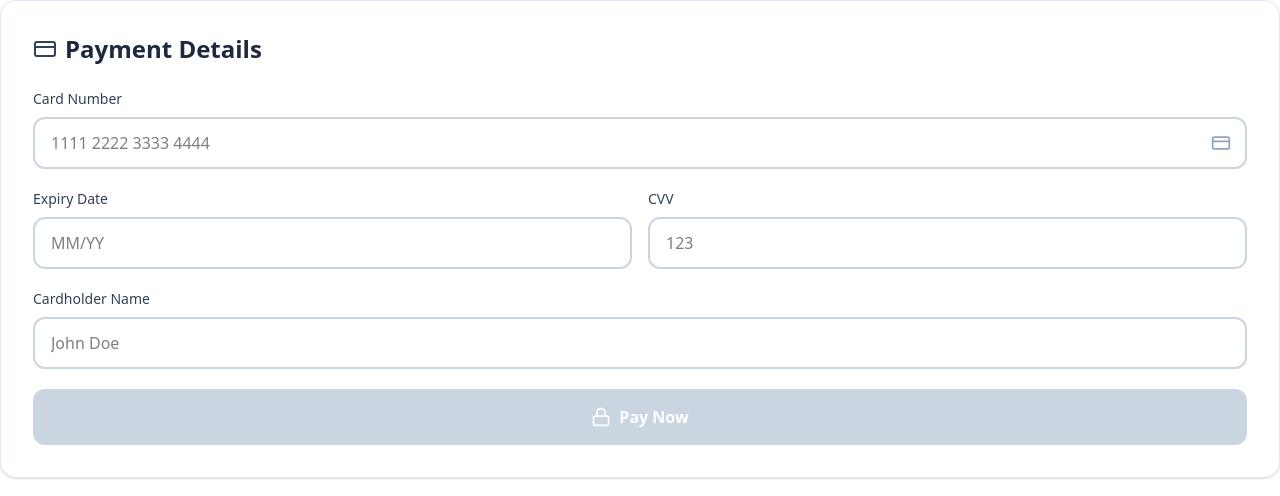
Test: PaymentForm › updates expiry input correctly
This screenshot has width=1280, height=496.
Type "1225" into the field with placeholder "MM/YY". click: (332, 243)
box: [33,217,632,269]
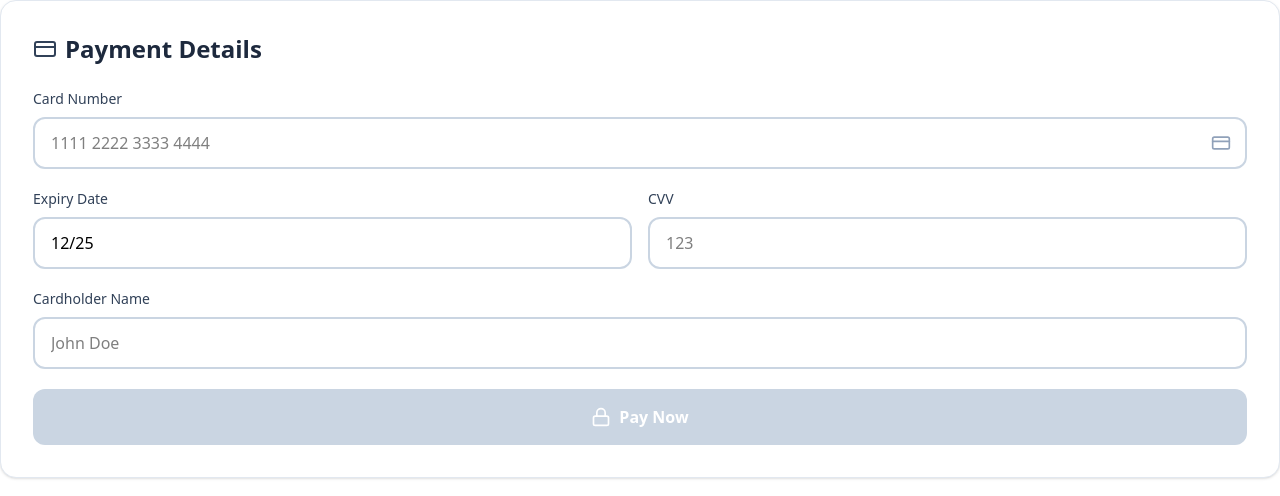
Check: the field with placeholder "MM/YY" holds "12/25", box [33,217,632,269]
